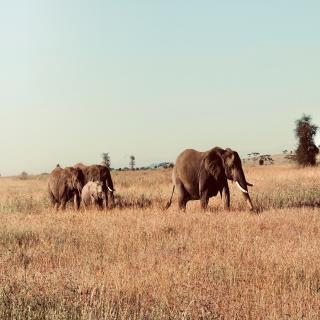Elephant: (167, 141, 265, 216), (45, 164, 86, 214), (78, 159, 116, 199), (81, 180, 110, 210)
